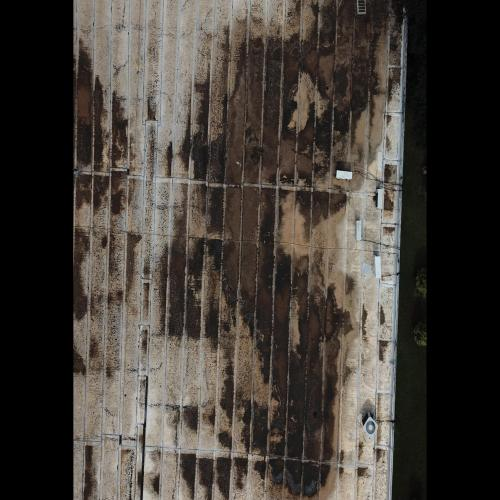conde: (361, 410, 381, 440), (375, 185, 388, 213), (353, 216, 365, 243), (374, 254, 384, 281), (335, 170, 355, 183)
